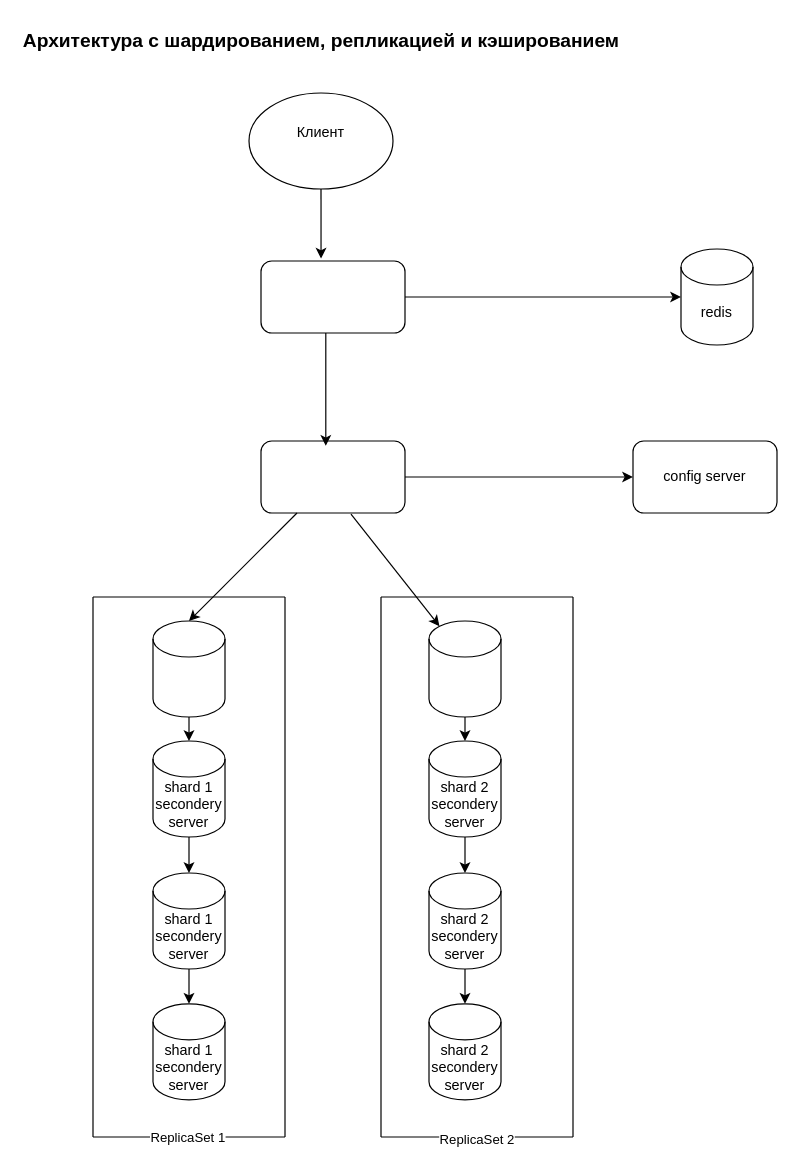
This 798x1166 diagram has some shape labels left out. The shapes that lost their labels are listed below. From the top down, each one's box as (x1, y1, x2, y2) in pixels, then its label:
(260, 260, 405, 333): pymongo-api
(260, 440, 405, 513): router
(152, 620, 225, 717): shard 1 primary server
(428, 620, 501, 717): shard 2 primary server
